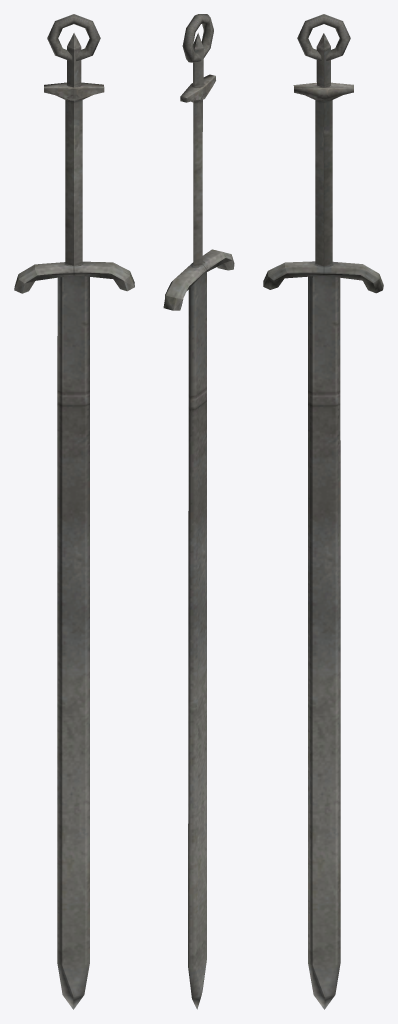
File: bg_lut_lucastle_herostatue02a_sm_artree.FBX
3 views of the same model, side by side, from view 1: azimuth 90°, elevation 25°; view 2: azimuth 150°, elevation 25°; view 3: azimuth 270°, elevation 25° (orthographic).
Parts seen in each view (by area): view 1: bg_lut_lucastle_herostatue02a_sm_artree; view 2: bg_lut_lucastle_herostatue02a_sm_artree; view 3: bg_lut_lucastle_herostatue02a_sm_artree.
Part boxes in pixels (x1=…): bg_lut_lucastle_herostatue02a_sm_artree: x1=14, y1=14, x2=134, y2=1009; bg_lut_lucastle_herostatue02a_sm_artree: x1=163, y1=14, x2=234, y2=1009; bg_lut_lucastle_herostatue02a_sm_artree: x1=263, y1=14, x2=383, y2=1009.
Bounding box in the file's own units: 5.12 × 269 × 29.52.
